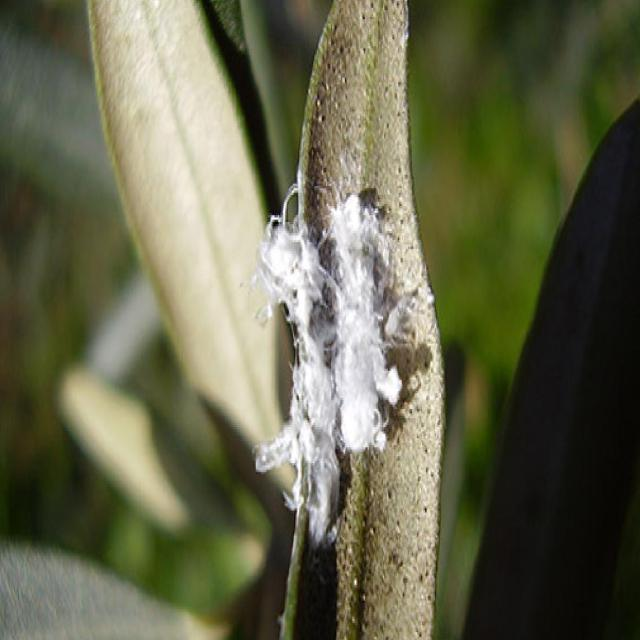Psyllid: (253, 182, 436, 548)
